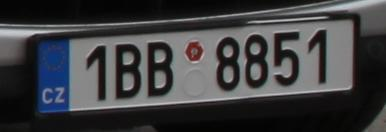1: (86, 45, 106, 101), (309, 29, 326, 84)
5: (274, 32, 300, 86)
8: (216, 36, 240, 91), (245, 35, 268, 88)
B: (115, 43, 140, 99), (148, 42, 173, 97)
